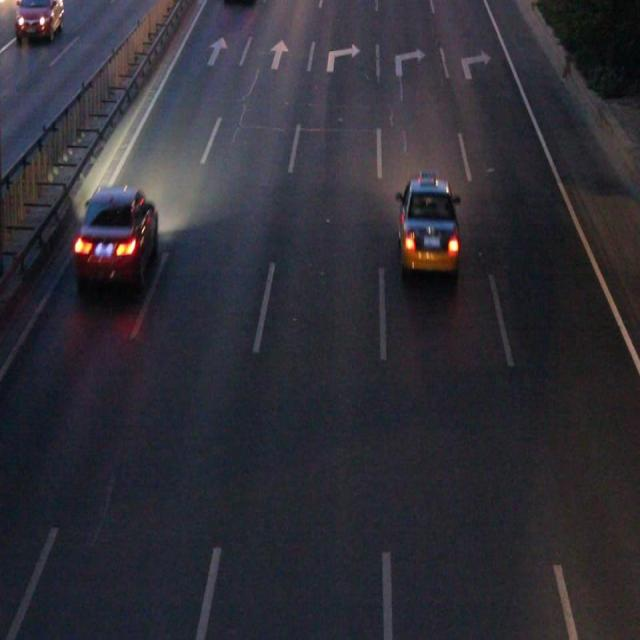car: (80, 192, 155, 281), (398, 180, 456, 270)
